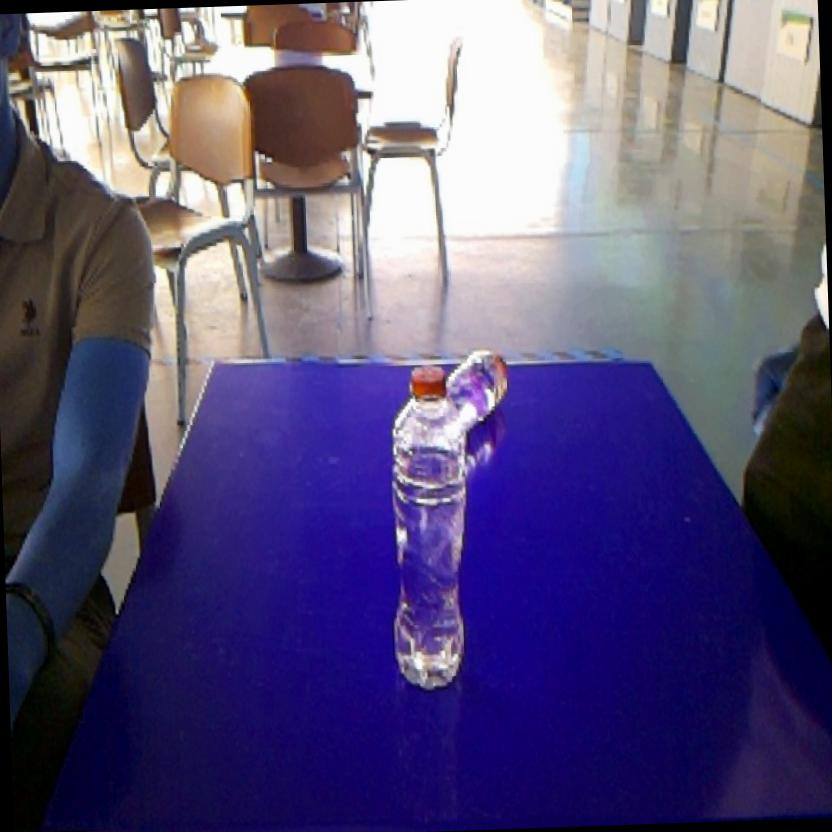no_label: (378, 357, 485, 699)
